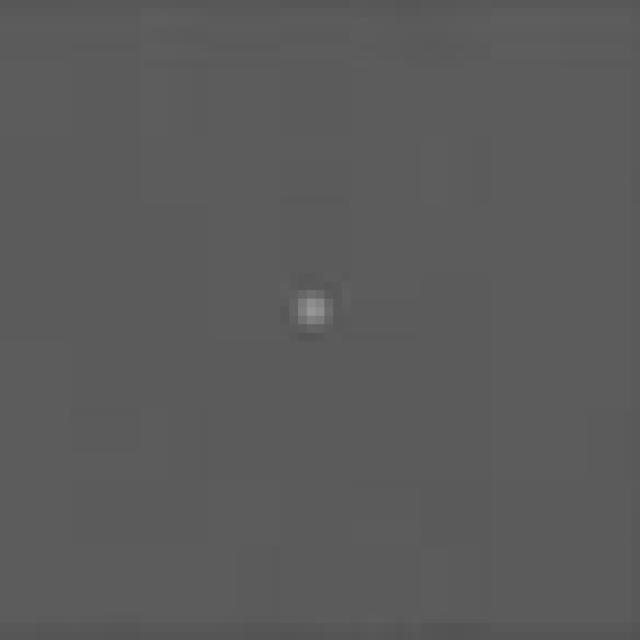Defect1: (212, 212, 400, 392)
